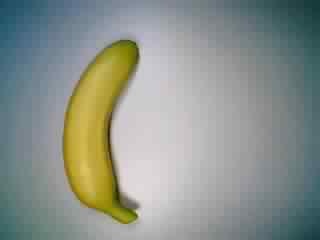banana: (54, 36, 153, 226)
